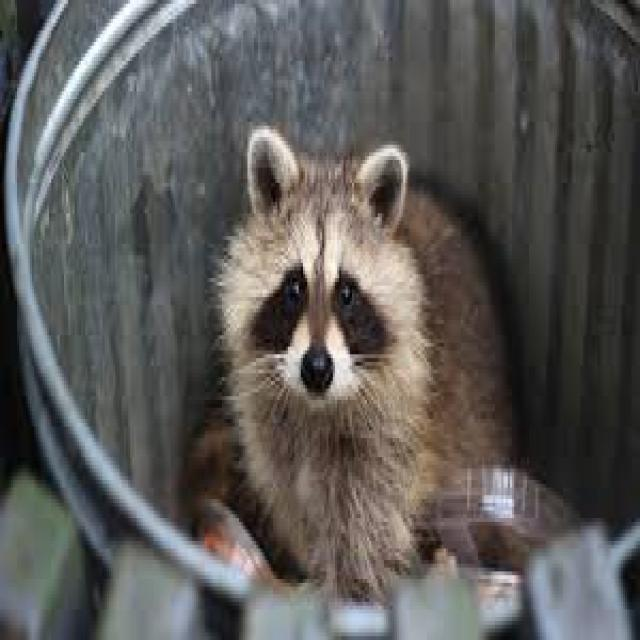Raccoon: (206, 122, 519, 578)
